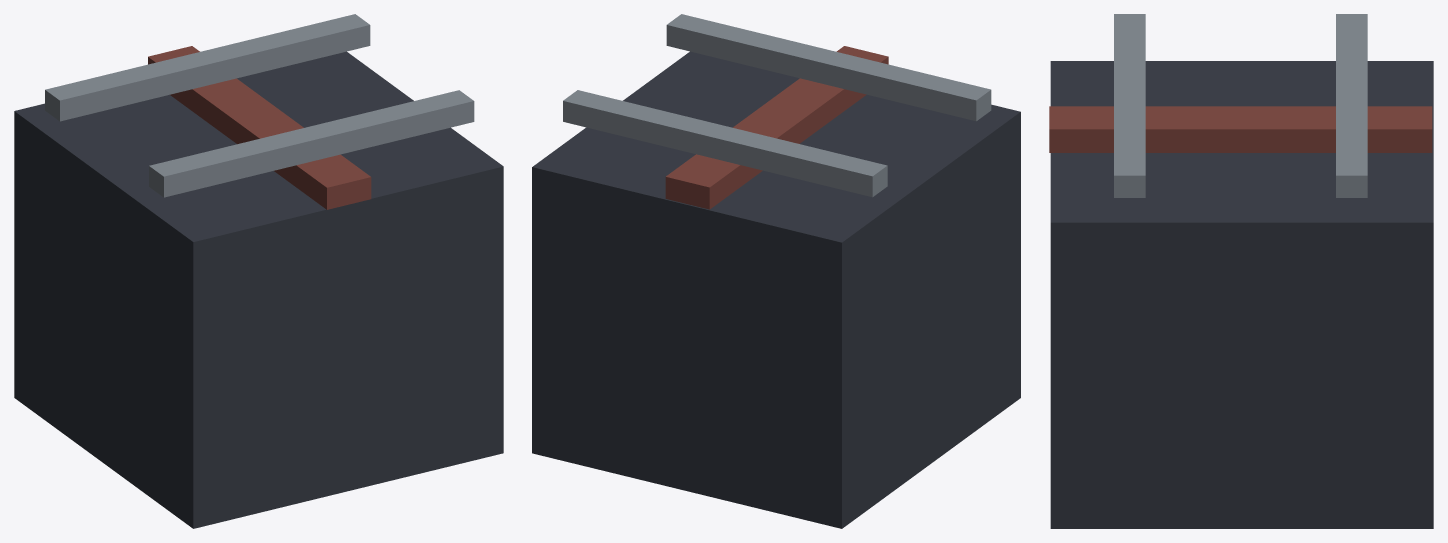
Rendered from DeepRoadRail.fbx.
The picture shows the model from 3 angles, left to right: view 1: azimuth 30°, elevation 25°; view 2: azimuth 150°, elevation 25°; view 3: azimuth 270°, elevation 25°; orthographic projection. The views are drawn at different scales.
Visible parts, largest first — view 1: RoadRail.009; view 2: RoadRail.009; view 3: RoadRail.009.
Boxes of the visible parts, <box> form: RoadRail.009: <box>14,14,503,528</box>; RoadRail.009: <box>532,14,1020,528</box>; RoadRail.009: <box>1049,14,1433,528</box>.
Bounding box in the file's own units: 1 × 1.02 × 1.
